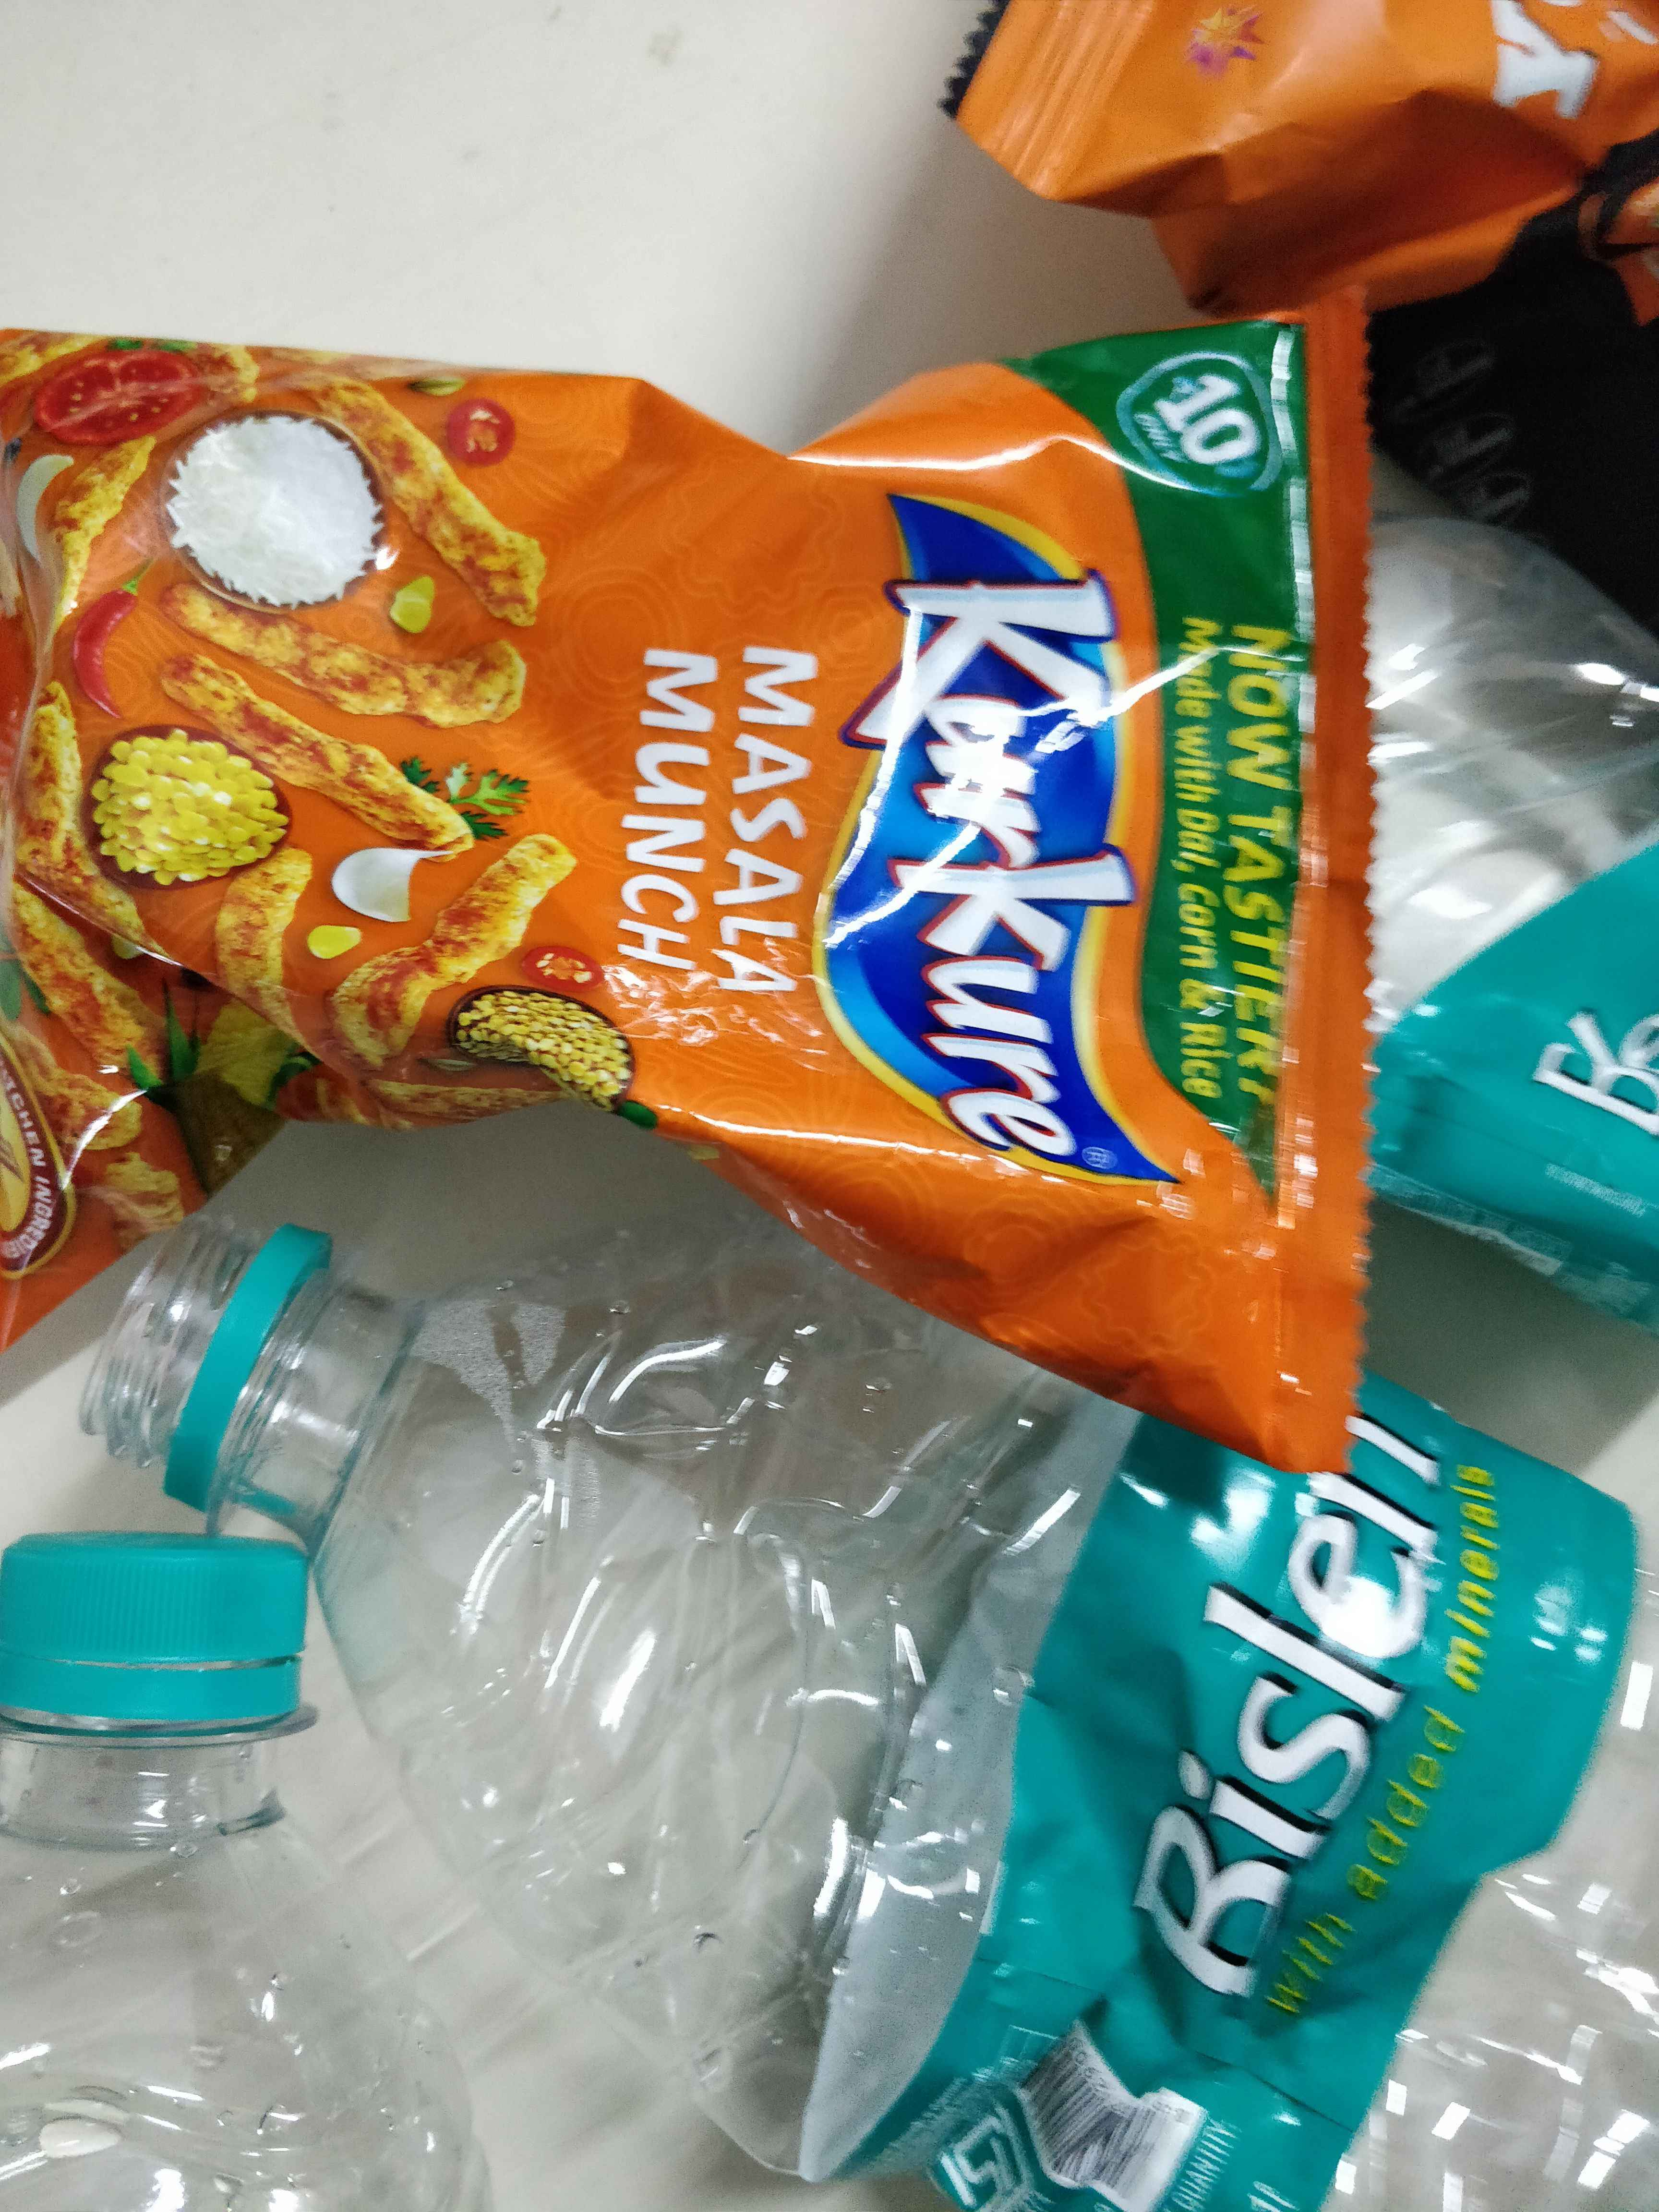Bisleri: (1091, 1409, 1502, 2000), (1511, 972, 1659, 1108)
kurkure: (829, 456, 1208, 1221)
tooyumm: (1464, 2, 1659, 148)
